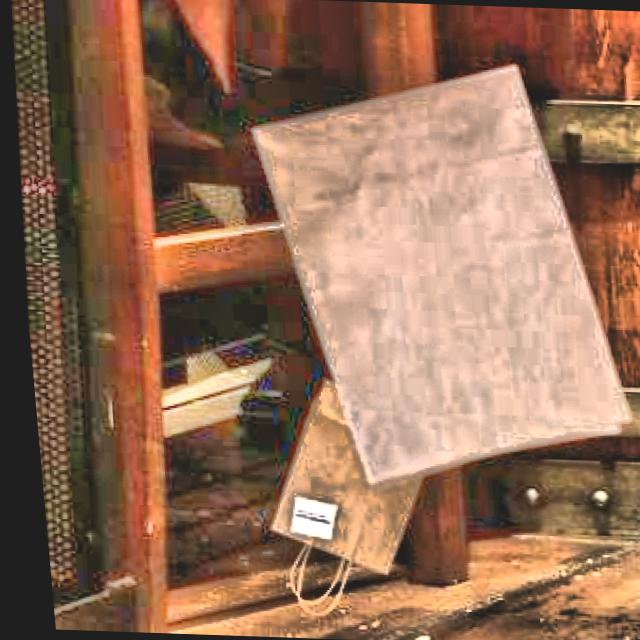Paper-bag: (221, 59, 640, 486), (230, 390, 439, 626)
